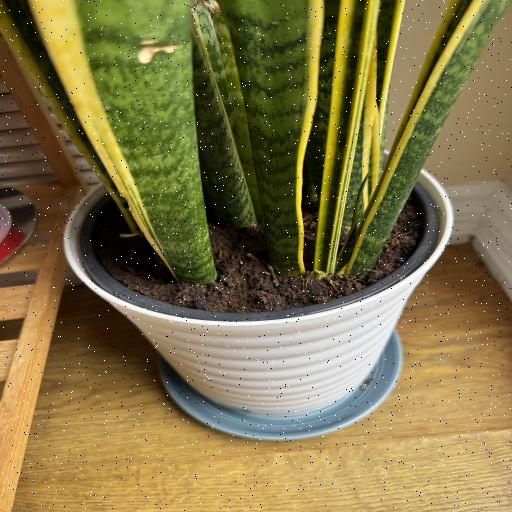Plant Pot: (60, 134, 452, 416)
